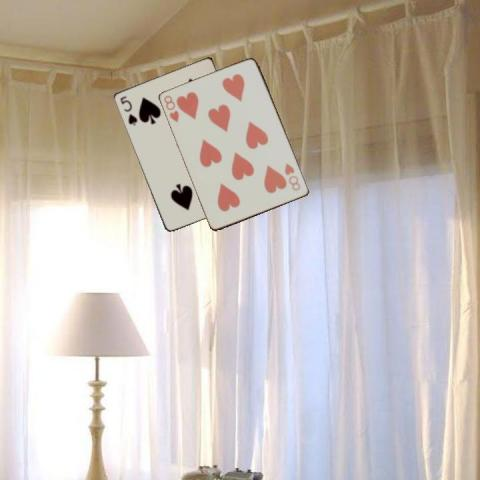5s: (116, 92, 138, 126)
8h: (282, 160, 302, 192), (161, 92, 180, 124)
